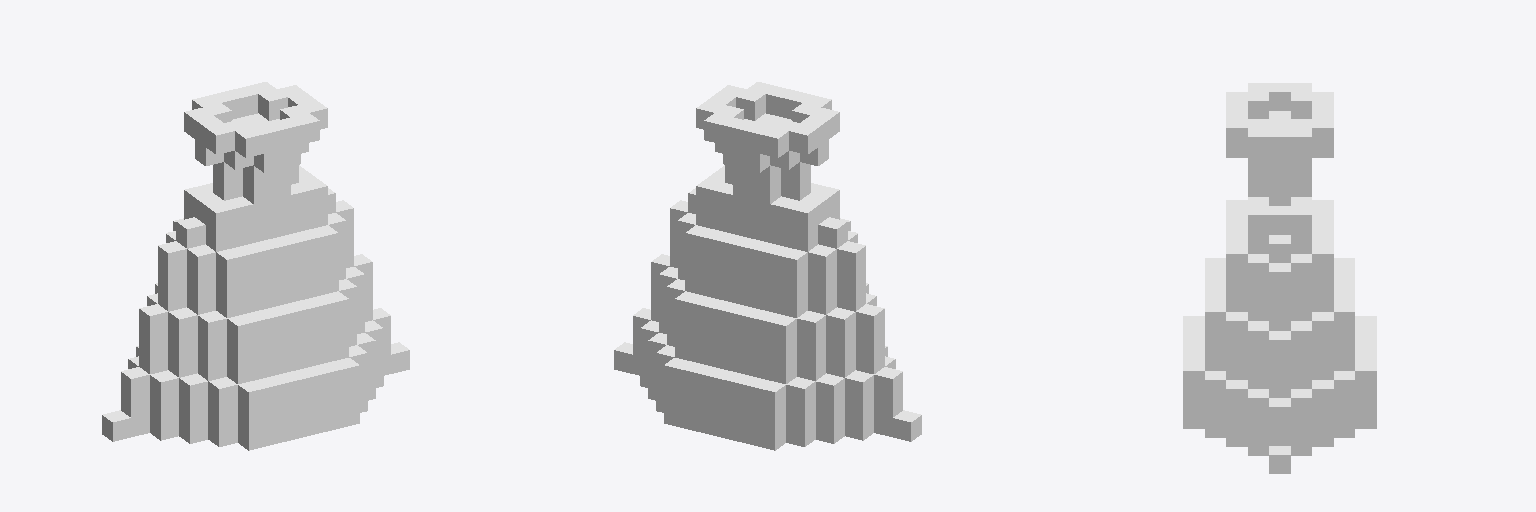
Rendered from SacoDePapas.obj.
3 renders of one model, left to right at view 1: azimuth 30°, elevation 25°; view 2: azimuth 150°, elevation 25°; view 3: azimuth 270°, elevation 25°, orthographic.
Visible parts, largest first — view 1: object 1; view 2: object 1; view 3: object 1.
Part boxes in pixels (x1,y1,x2,y2): object 1: (102,82,409,450); object 1: (614,82,921,450); object 1: (1183,83,1376,473).
Bounding box in the file's own units: 1.6 × 1.5 × 0.9.